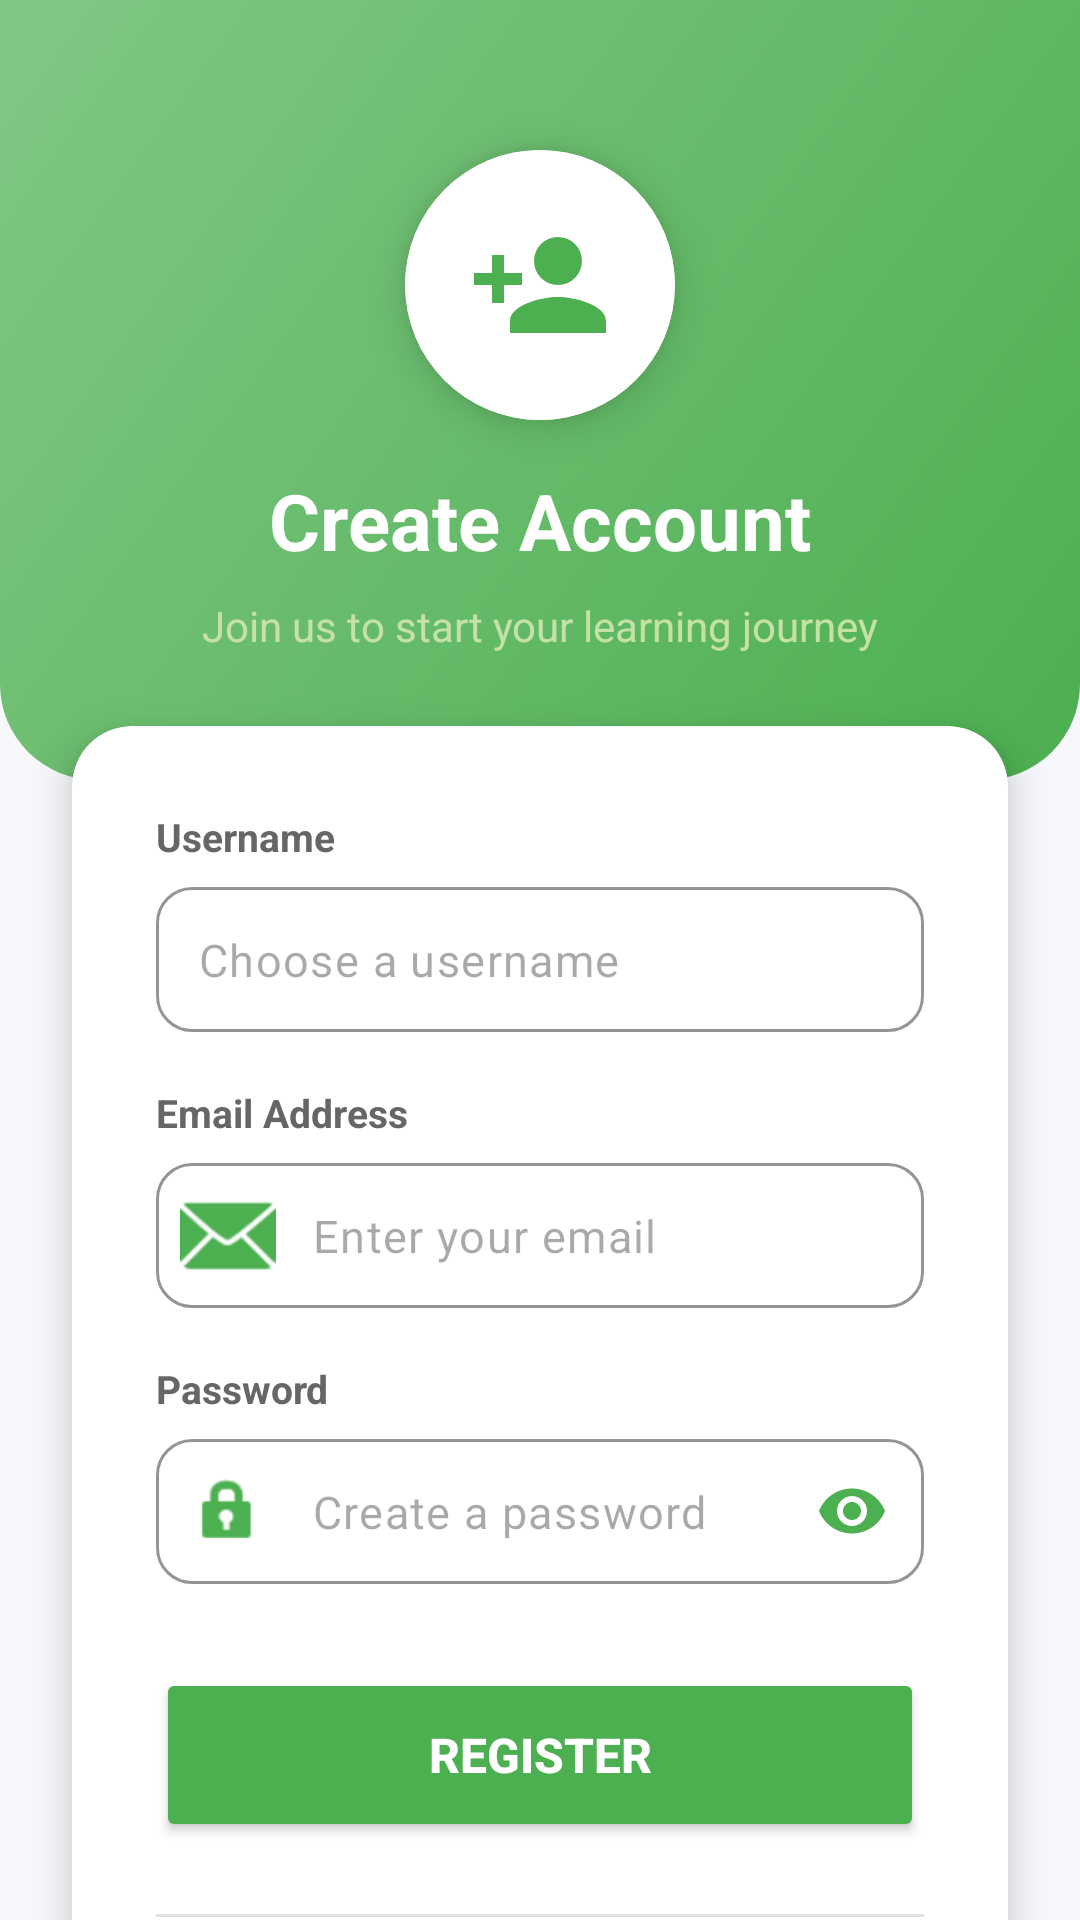

Screen size 1080px x 1920px. Icon name, then its center in pixels as point (x, y):
person add: point (540, 285)
